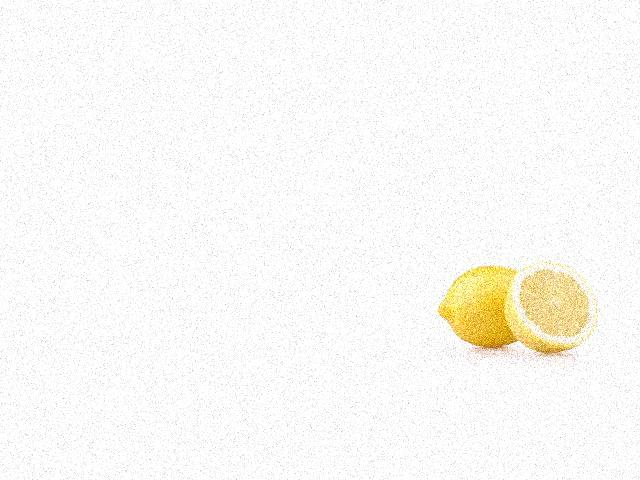lemon: (436, 258, 535, 360)
